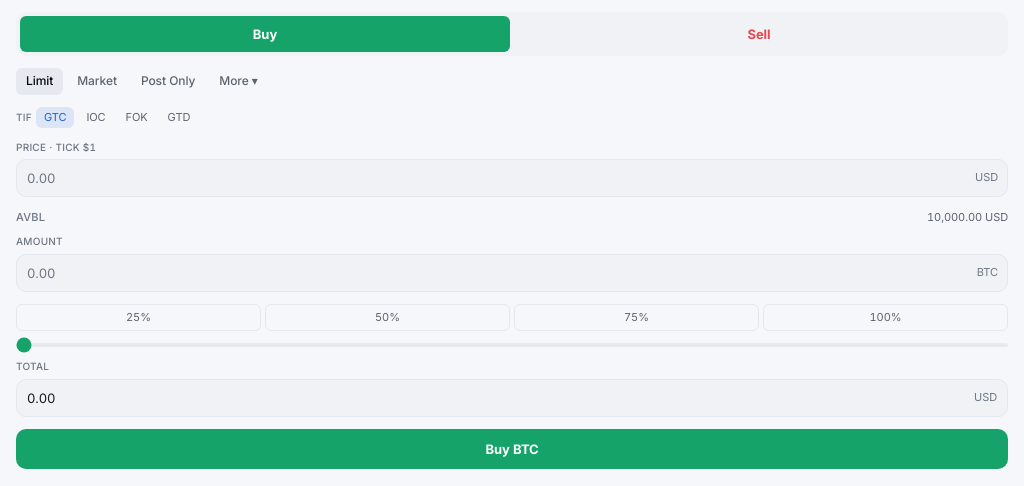
Test case: OrderForm % sizing › buy sizes pct% of the quote balance at the last trade price when the price field is empty
What coordinates should you click on to do the following:
click the button "50%"
I would click on:
 (388, 318)
Its box is left=265, top=304, right=510, bottom=331.
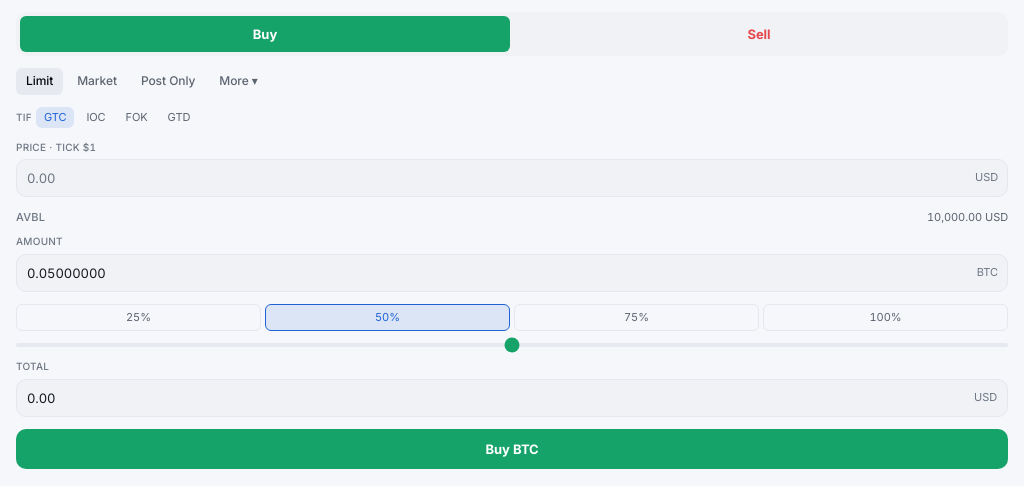
Result: the 2nd number field holds "0.05000000" at left=16, top=254, right=1008, bottom=292
